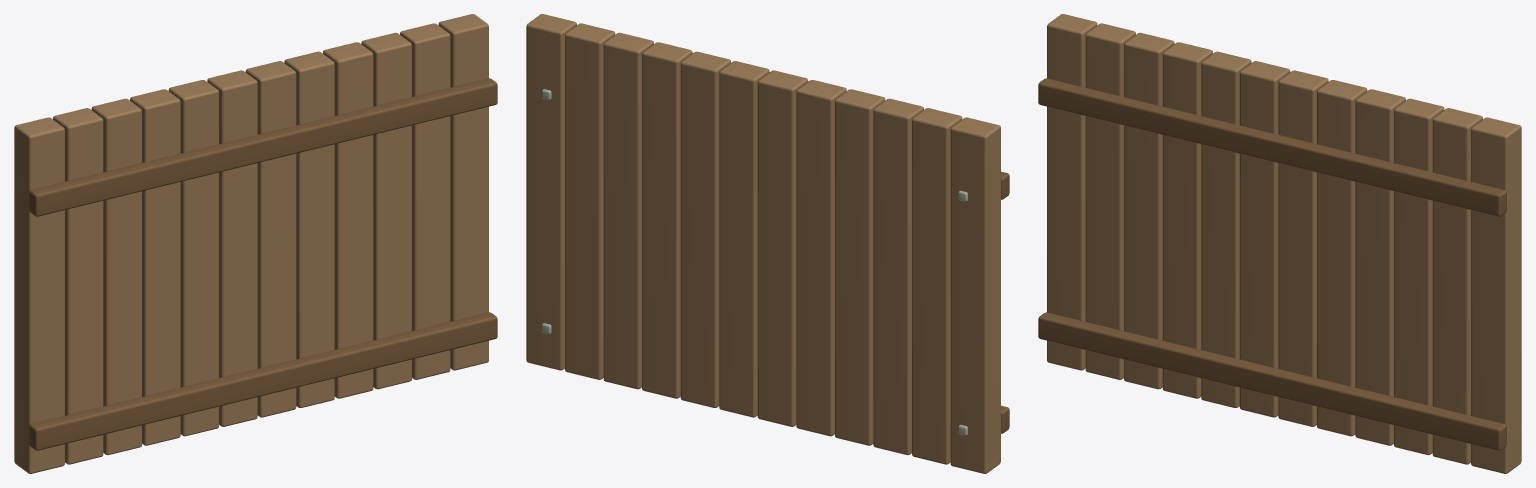
Rendered from build-wall.glb.
3 renders of one model, left to right at view 1: azimuth 30°, elevation 25°; view 2: azimuth 150°, elevation 25°; view 3: azimuth 330°, elevation 25°, orthographic.
Parts seen in each view (by area): view 1: Vertical timber, Cross brace.001, Cross brace, Vertical timber.006, Vertical timber.008, Vertical timber.002, Vertical timber.007, Vertical timber.003, Vertical timber.009, Vertical timber.011, Vertical timber.001, Vertical timber.004 (+2 smaller); view 2: Vertical timber, Vertical timber.005, Vertical timber.007, Vertical timber.008, Vertical timber.010, Vertical timber.001, Vertical timber.009, Vertical timber.002, Vertical timber.003, Vertical timber.004, Vertical timber.006, Vertical timber.011; view 3: Vertical timber.011, Cross brace.001, Cross brace, Vertical timber.005, Vertical timber.003, Vertical timber.004, Vertical timber.009, Vertical timber, Vertical timber.002, Vertical timber.008, Vertical timber.010, Vertical timber.001 (+2 smaller).
Part boxes in pixels (left/top/right/bottom): Vertical timber: left=14, top=117, right=64, bottom=473; Cross brace.001: left=29, top=78, right=497, bottom=216; Cross brace: left=29, top=312, right=497, bottom=450; Vertical timber.006: left=245, top=61, right=296, bottom=417; Vertical timber.008: left=323, top=42, right=373, bottom=398; Vertical timber.002: left=91, top=98, right=141, bottom=455; Vertical timber.007: left=284, top=51, right=334, bottom=407; Vertical timber.003: left=130, top=89, right=180, bottom=445; Vertical timber.009: left=361, top=32, right=411, bottom=389; Vertical timber.011: left=438, top=14, right=488, bottom=370; Vertical timber.001: left=53, top=108, right=103, bottom=464; Vertical timber.004: left=168, top=80, right=218, bottom=436; Vertical timber: left=950, top=117, right=1000, bottom=473; Vertical timber.005: left=757, top=70, right=808, bottom=426; Vertical timber.007: left=680, top=51, right=730, bottom=407; Vertical timber.008: left=642, top=42, right=692, bottom=398; Vertical timber.010: left=565, top=23, right=615, bottom=379; Vertical timber.001: left=912, top=108, right=962, bottom=464; Vertical timber.009: left=603, top=32, right=653, bottom=389; Vertical timber.002: left=873, top=98, right=923, bottom=455; Vertical timber.003: left=835, top=89, right=885, bottom=445; Vertical timber.004: left=796, top=80, right=846, bottom=436; Vertical timber.006: left=719, top=61, right=769, bottom=417; Vertical timber.011: left=526, top=14, right=576, bottom=370; Vertical timber.011: left=1471, top=117, right=1521, bottom=473; Cross brace.001: left=1038, top=78, right=1506, bottom=216; Cross brace: left=1038, top=312, right=1506, bottom=450; Vertical timber.005: left=1239, top=61, right=1290, bottom=417; Vertical timber.003: left=1162, top=42, right=1212, bottom=398; Vertical timber.004: left=1201, top=51, right=1251, bottom=407; Vertical timber.009: left=1394, top=98, right=1444, bottom=455; Vertical timber: left=1047, top=14, right=1097, bottom=370; Vertical timber.002: left=1124, top=32, right=1174, bottom=389; Vertical timber.008: left=1355, top=89, right=1405, bottom=445; Vertical timber.010: left=1432, top=108, right=1482, bottom=464; Vertical timber.001: left=1085, top=23, right=1135, bottom=379.
Size of the model in its own units: 3 by 2.1 by 0.2855.
